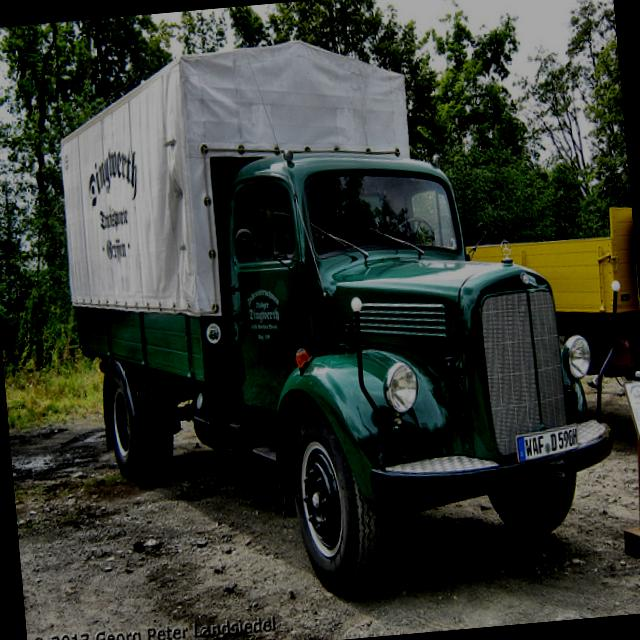Vehicle: (52, 13, 626, 617), (501, 137, 640, 440)
